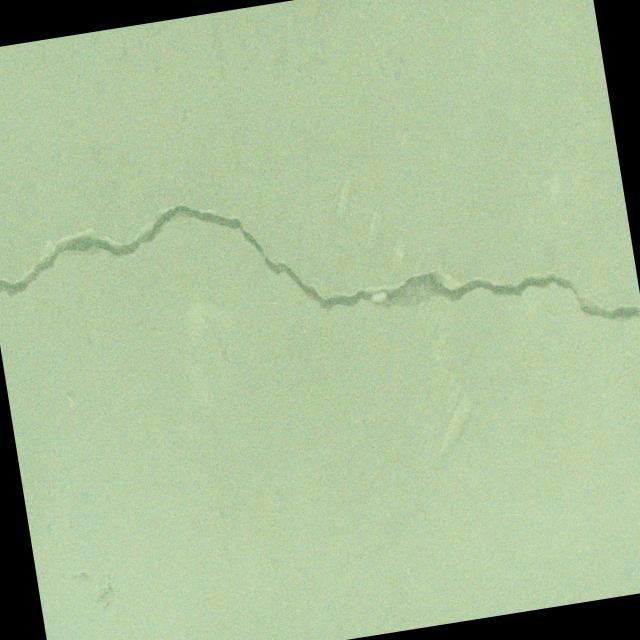crack: (0, 135, 640, 424)
